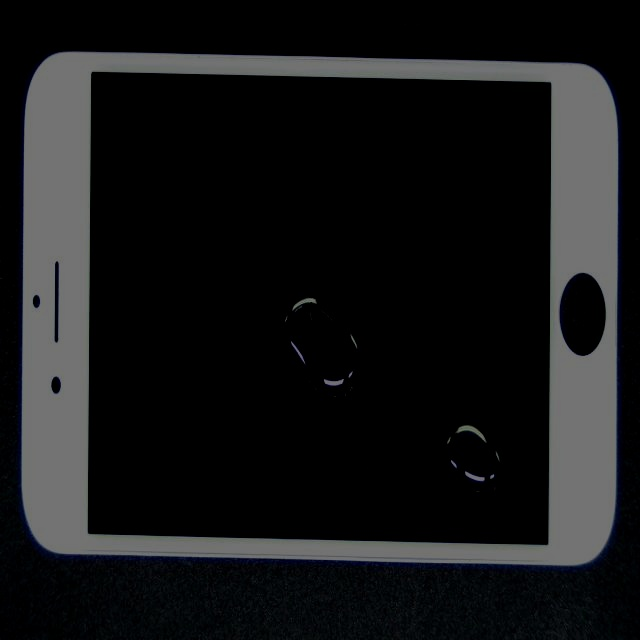oil: (231, 184, 640, 640), (162, 131, 440, 449)
